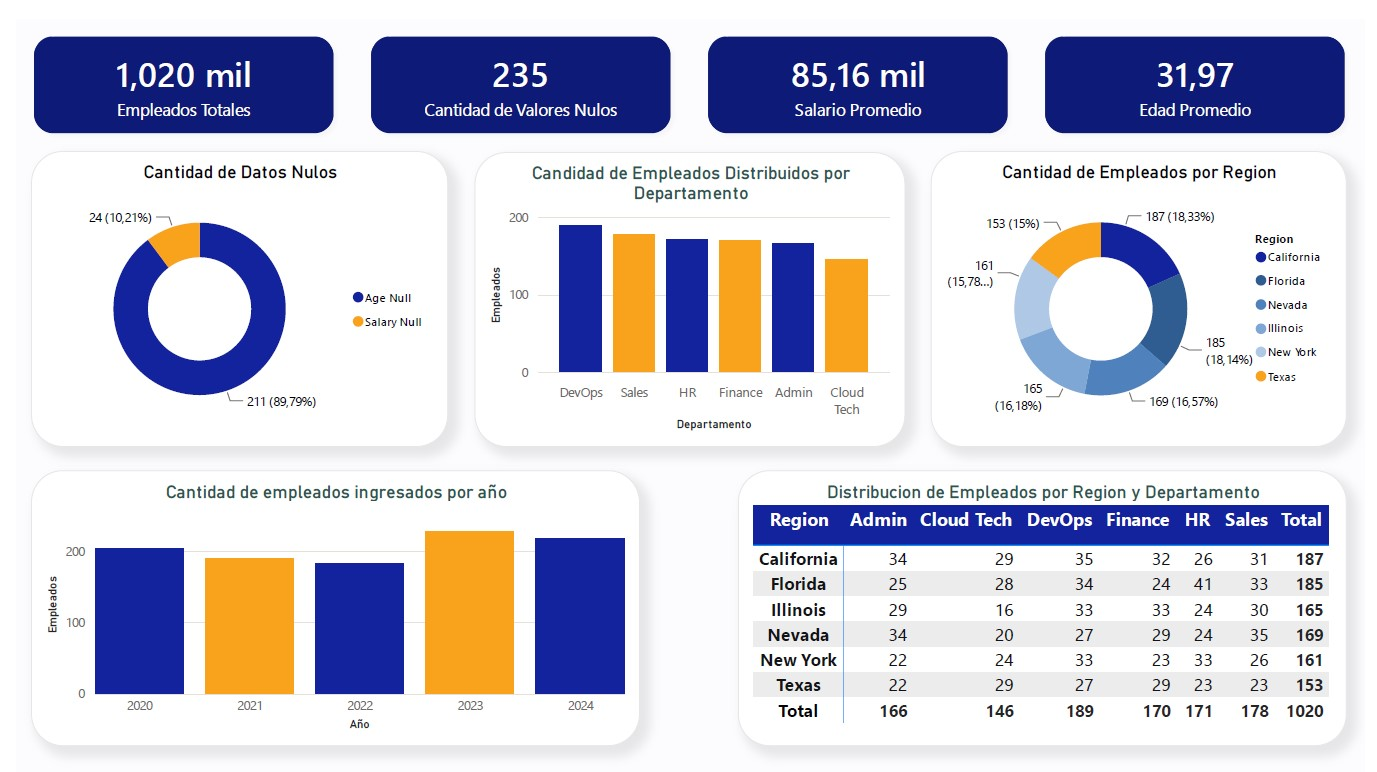

This screenshot's page, from the dashboard's own definition file:
{"tool":"powerbi","page":{"name":"Página 1","canvas":[1280,720],"ordinal":0},"visuals":[{"type":"actionButton","box":[0,0,100,40],"z":0},{"type":"cardVisual","fields":{"Data":["employees_clean.Empleados Totales","employees.Datos Defectuosos","employees_clean.Salario Promedio","employees_clean.Edad Promedio"]},"box":[0,0,1280,125],"z":1000},{"type":"donutChart","title":"Cantidad de Datos Nulos","fields":{"Y":["employees.Cant_Edad_Null","employees.Cant_Salary_Null"]},"box":[13.9,124.9,396.1,281.3],"z":2000},{"type":"donutChart","title":"Cantidad de Empleados por Region","fields":{"Category":["employees_clean.Region"],"Y":["employees_clean.Empleados Totales"]},"box":[867.8,124.9,394.8,281.3],"z":3000},{"type":"clusteredColumnChart","title":"Candidad de Empleados Distribuidos por Departamento","fields":{"Category":["employees_clean.Department"],"Y":["employees_clean.Empleados Totales"]},"box":[435.2,126.1,408.7,280],"z":4000},{"type":"clusteredColumnChart","title":"Cantidad de empleados ingresados por año","fields":{"Category":["employees_clean.Join_Date.Variación.Jerarquía de fechas.Año"],"Y":["employees_clean.Empleados Totales"]},"box":[13.9,427.6,577.7,262.4],"z":5000},{"type":"pivotTable","title":"Distribucion de Empleados por Region y Departamento","fields":{"Rows":["employees_clean.Region"],"Columns":["employees_clean.Department"],"Values":["employees_clean.Empleados Totales"]},"box":[684.9,427.6,577.7,262.4],"z":6000}]}

Visuals, with their boxes in screenshot pixels (x1, y1, x2, y2), scaled from the page's 1280x720 canvas onto the 1377x772 screenshot:
actionButton: <region>0, 0, 108, 43</region>
cardVisual - employees_clean.Empleados Totales x employees.Datos Defectuosos: <region>0, 0, 1376, 134</region>
"Cantidad de Datos Nulos" donutChart: <region>15, 134, 441, 436</region>
"Cantidad de Empleados por Region" donutChart: <region>934, 134, 1358, 436</region>
"Candidad de Empleados Distribuidos por Departamento" clusteredColumnChart: <region>468, 135, 908, 435</region>
"Cantidad de empleados ingresados por año" clusteredColumnChart: <region>15, 458, 636, 740</region>
"Distribucion de Empleados por Region y Departamento" pivotTable: <region>737, 458, 1358, 740</region>
